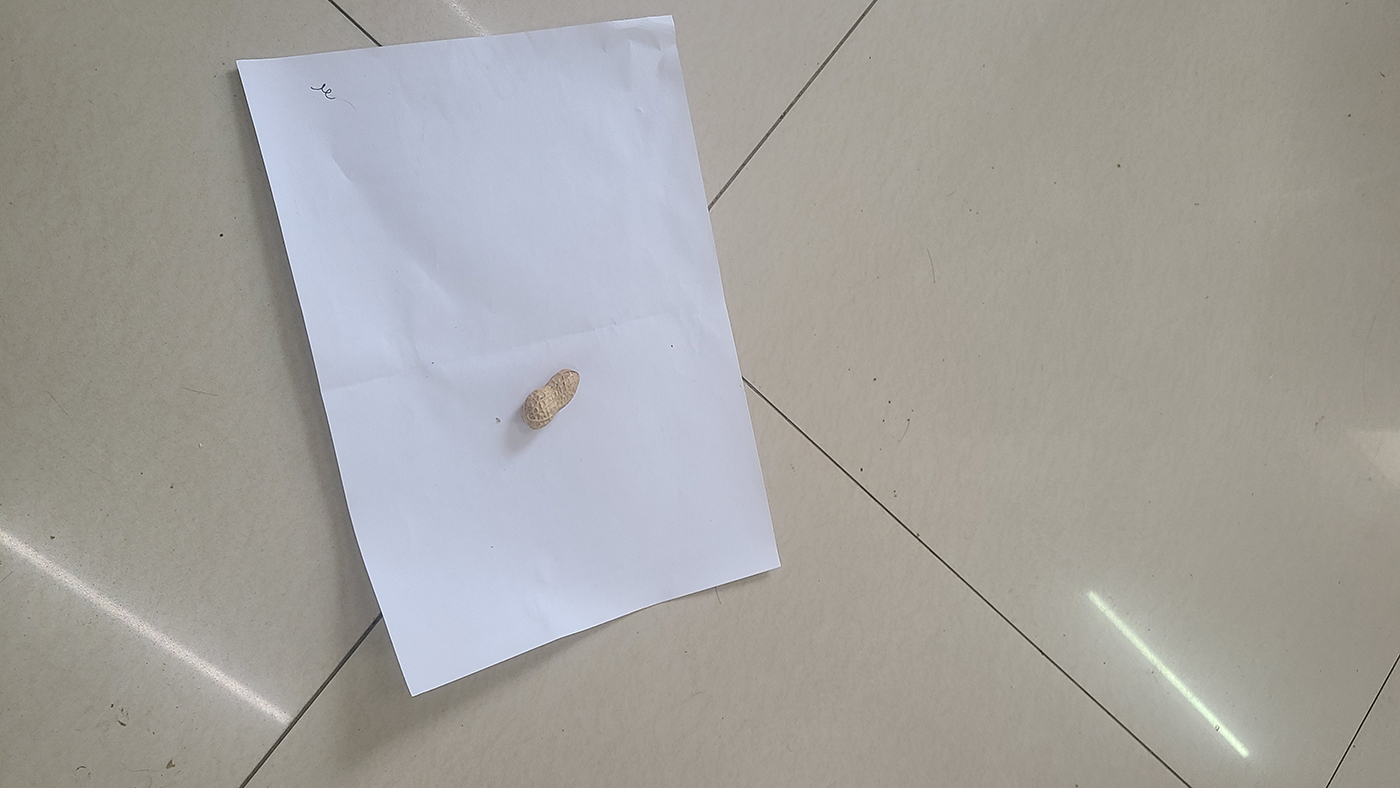h: (521, 368, 580, 429)
